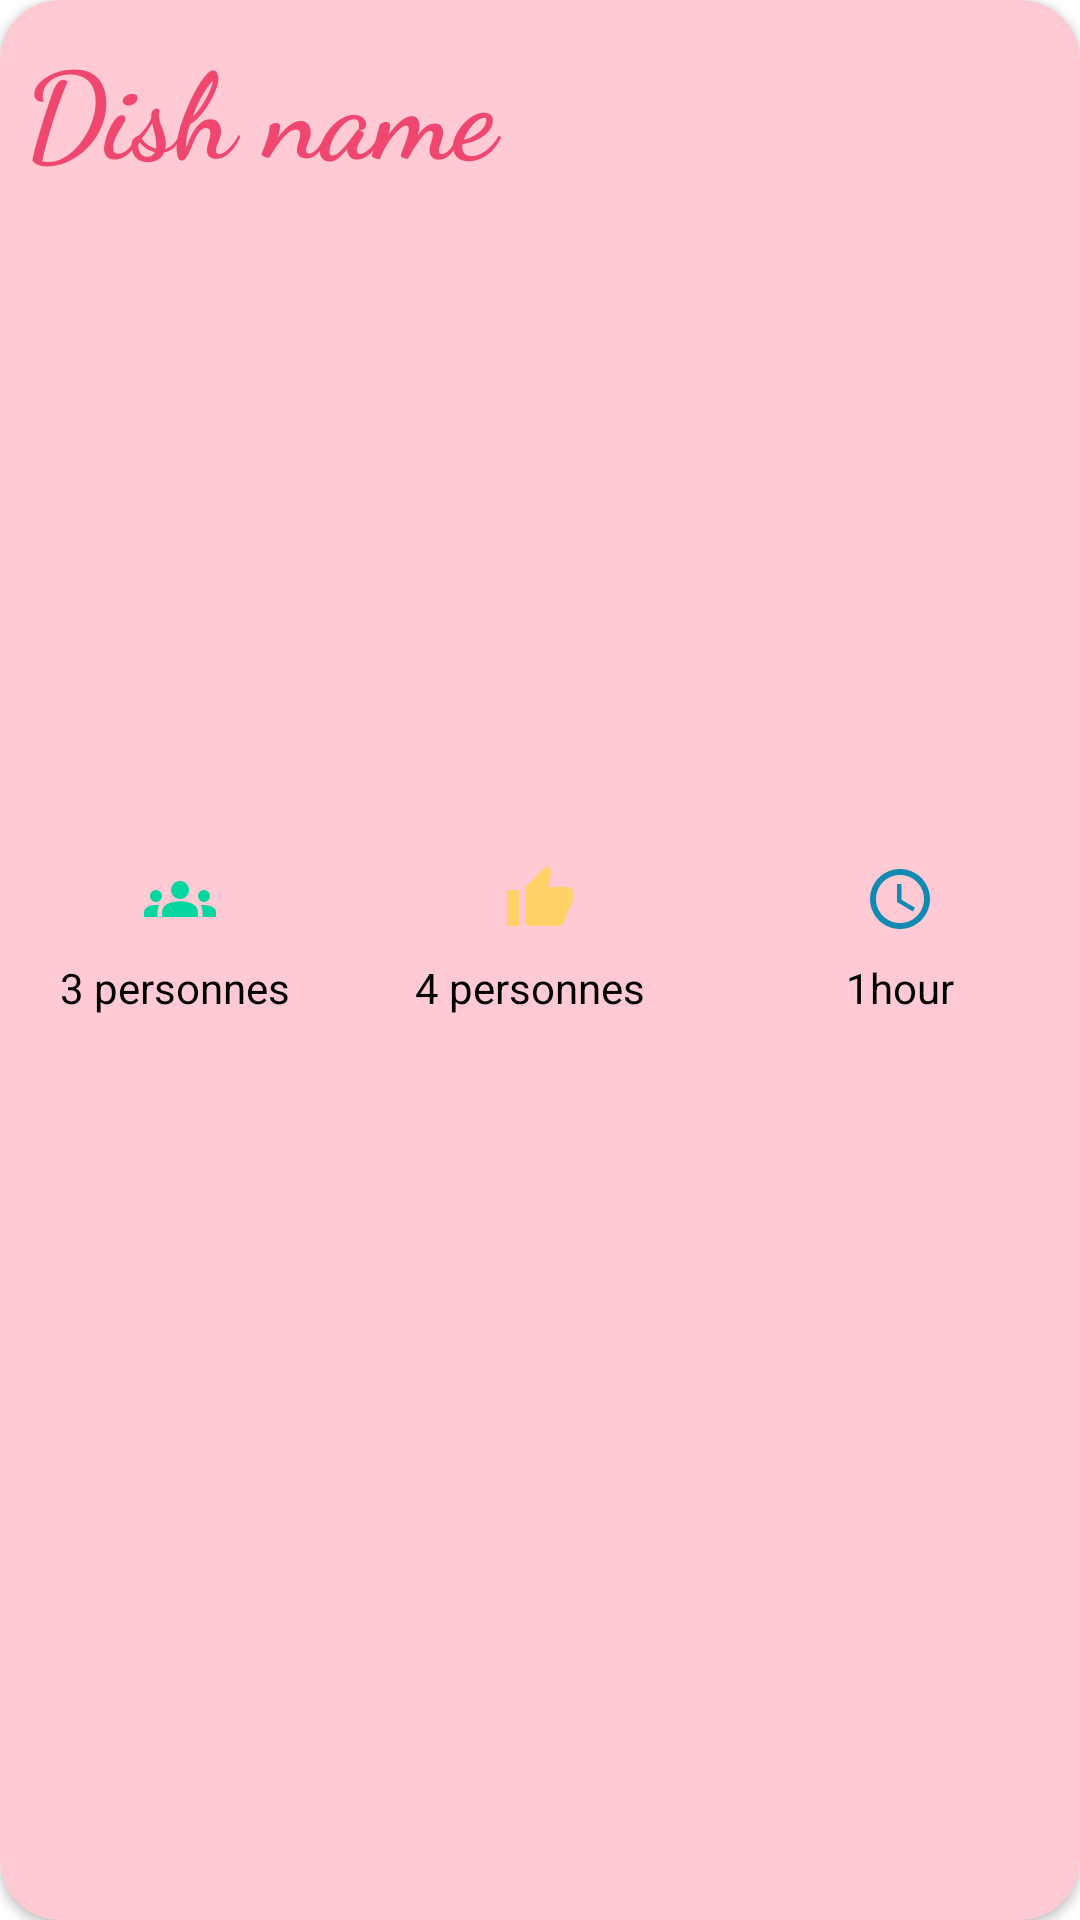

Named icons in this screenshot (1080 × 1920) and their centers, point (x, y):
access time: point (900, 899)
groups: point (180, 899)
thumb up: point (540, 896)
